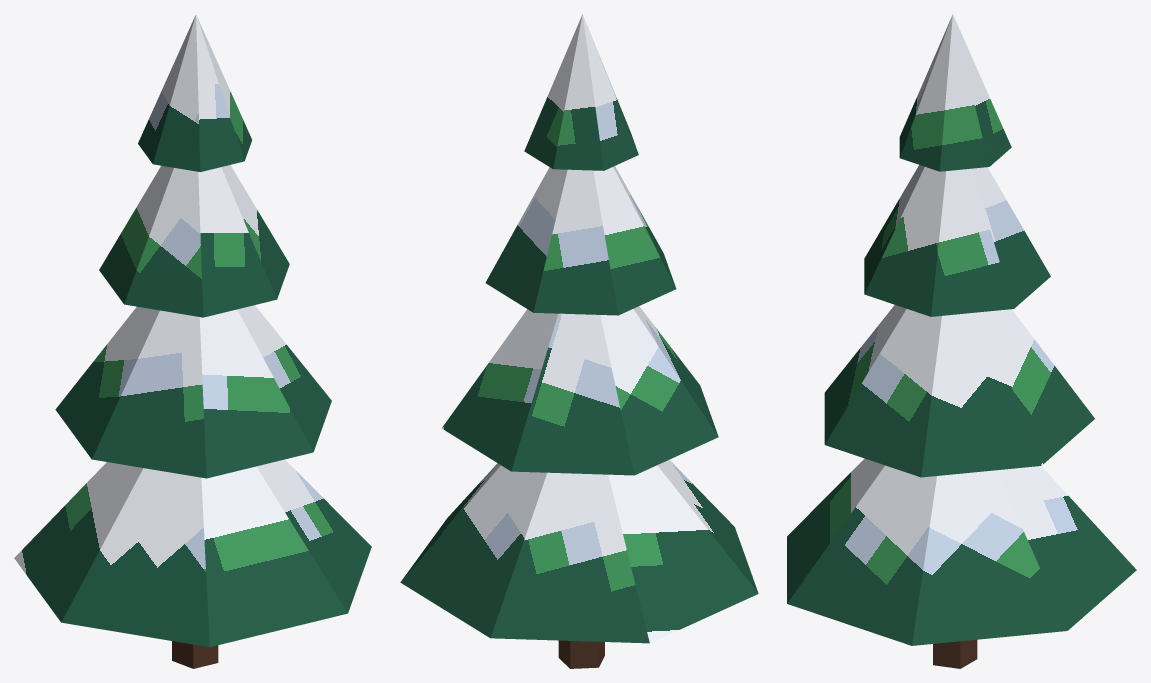
Rendered from prop_pine.glb.
The picture shows the model from 3 angles, left to right: view 1: azimuth 30°, elevation 25°; view 2: azimuth 150°, elevation 25°; view 3: azimuth 270°, elevation 25°; orthographic projection.
Visible parts, largest first — view 1: prop_pine; view 2: prop_pine; view 3: prop_pine.
Boxes of the visible parts, <box> form: prop_pine: <box>14,14,371,668</box>; prop_pine: <box>400,14,758,668</box>; prop_pine: <box>787,14,1136,668</box>.
Size of the model in its own units: 1.46 by 2.9 by 1.43.
Materials: 1 (1 with a texture image).
